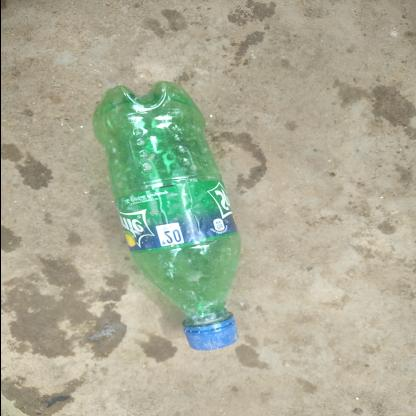bottle: (1, 235, 332, 351)
